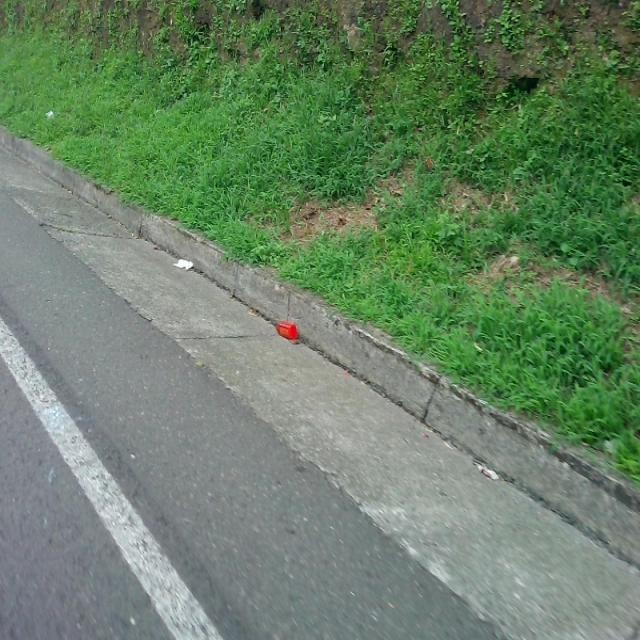DITCH: (1, 64, 638, 638), (1, 126, 638, 638)
